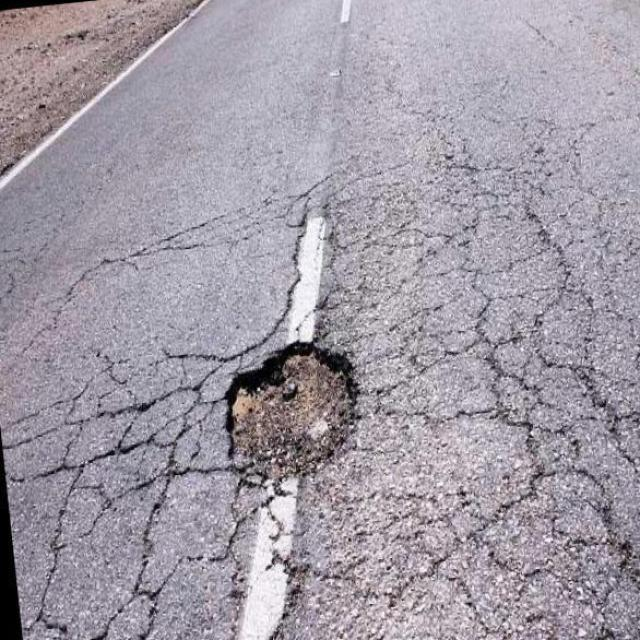Lubang: (221, 350, 363, 480)
Retak Buaya: (0, 152, 640, 640)
